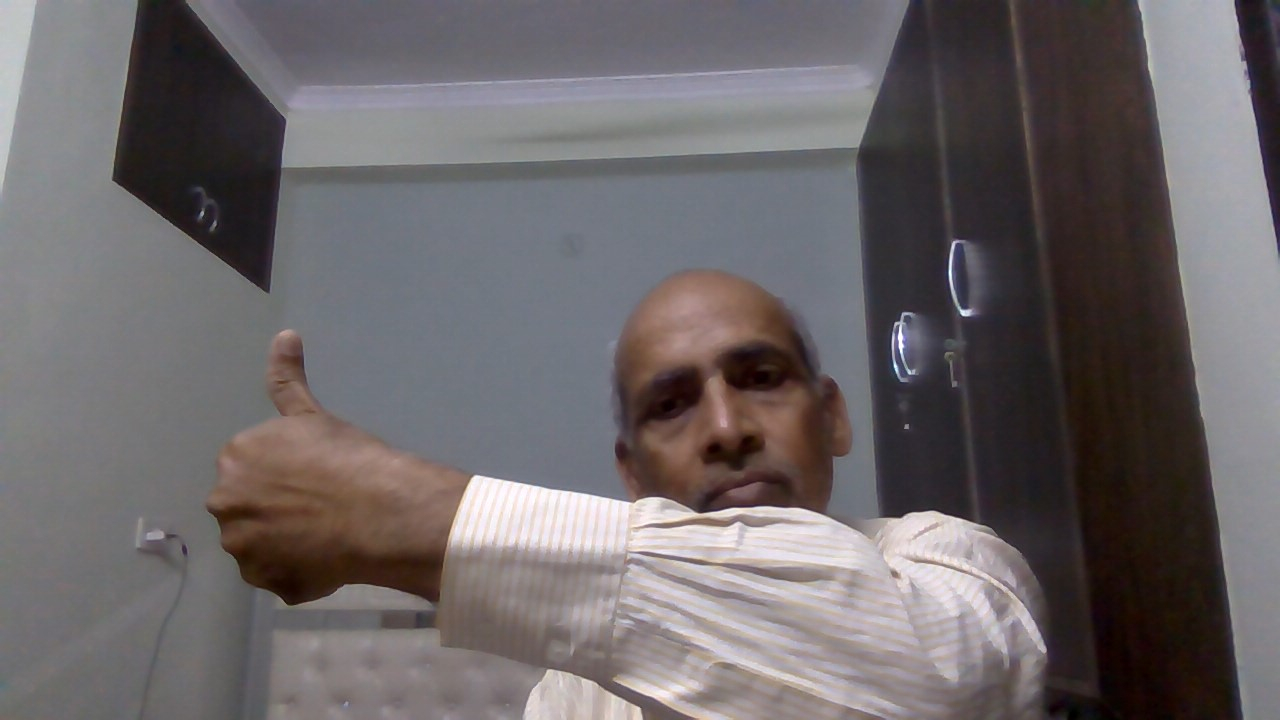Save: (199, 320, 381, 646)
